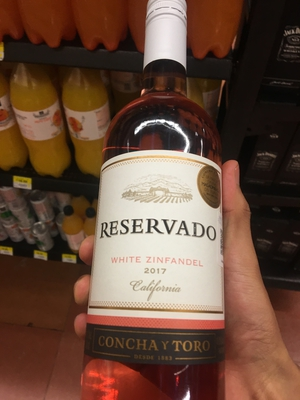reservado white zinfandel: (88, 10, 236, 400)
